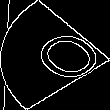O_SE: (9, 22, 101, 88)
